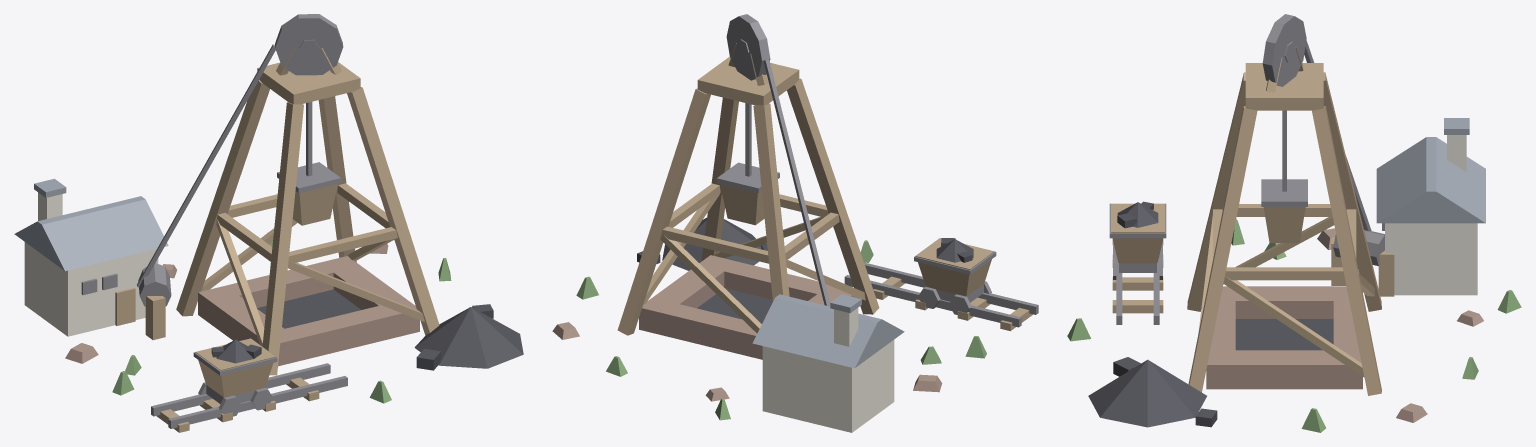
File: CoalMine.fbx
3 renders of one model, left to right at view 1: azimuth 30°, elevation 25°; view 2: azimuth 150°, elevation 25°; view 3: azimuth 270°, elevation 25°, orthographic. The views are drawn at different scales.
Parts seen in each view (by area): view 1: CoalMine; view 2: CoalMine; view 3: CoalMine.
Part boxes in pixels (<box>): CoalMine: <box>14,14,523,432</box>; CoalMine: <box>552,14,1038,432</box>; CoalMine: <box>1067,14,1521,432</box>.
Size of the model in its own units: 0.9585 by 0.7521 by 0.9295.
